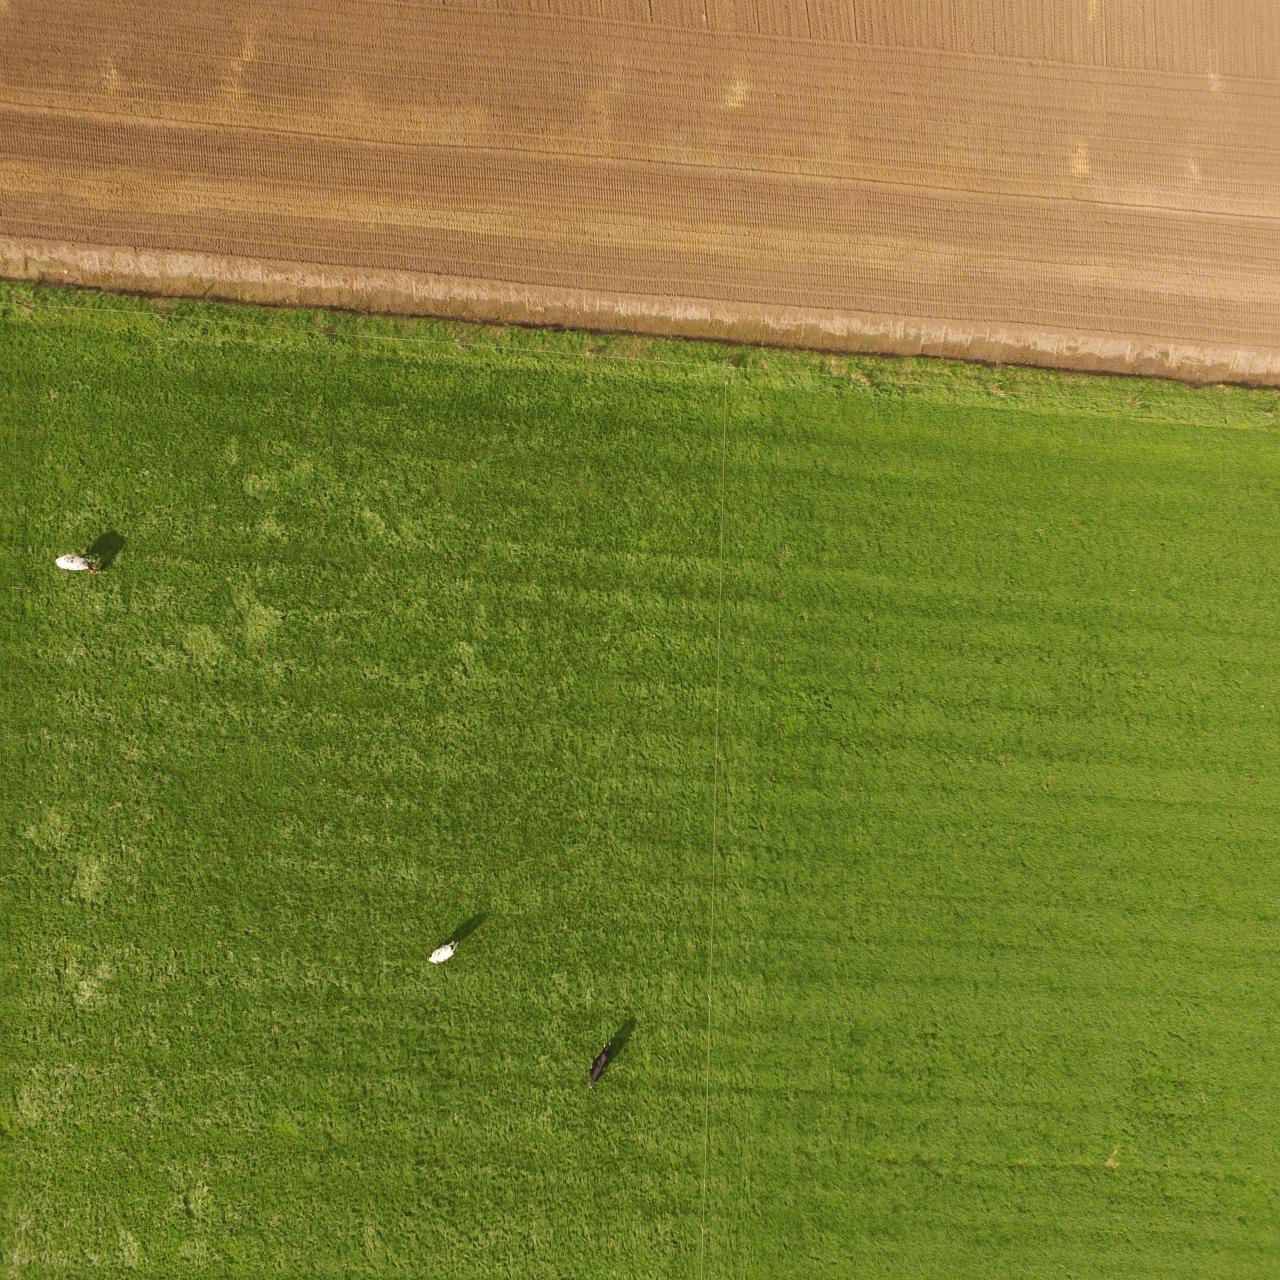cow: (52, 543, 107, 583), (583, 1035, 613, 1094), (424, 934, 465, 968)
